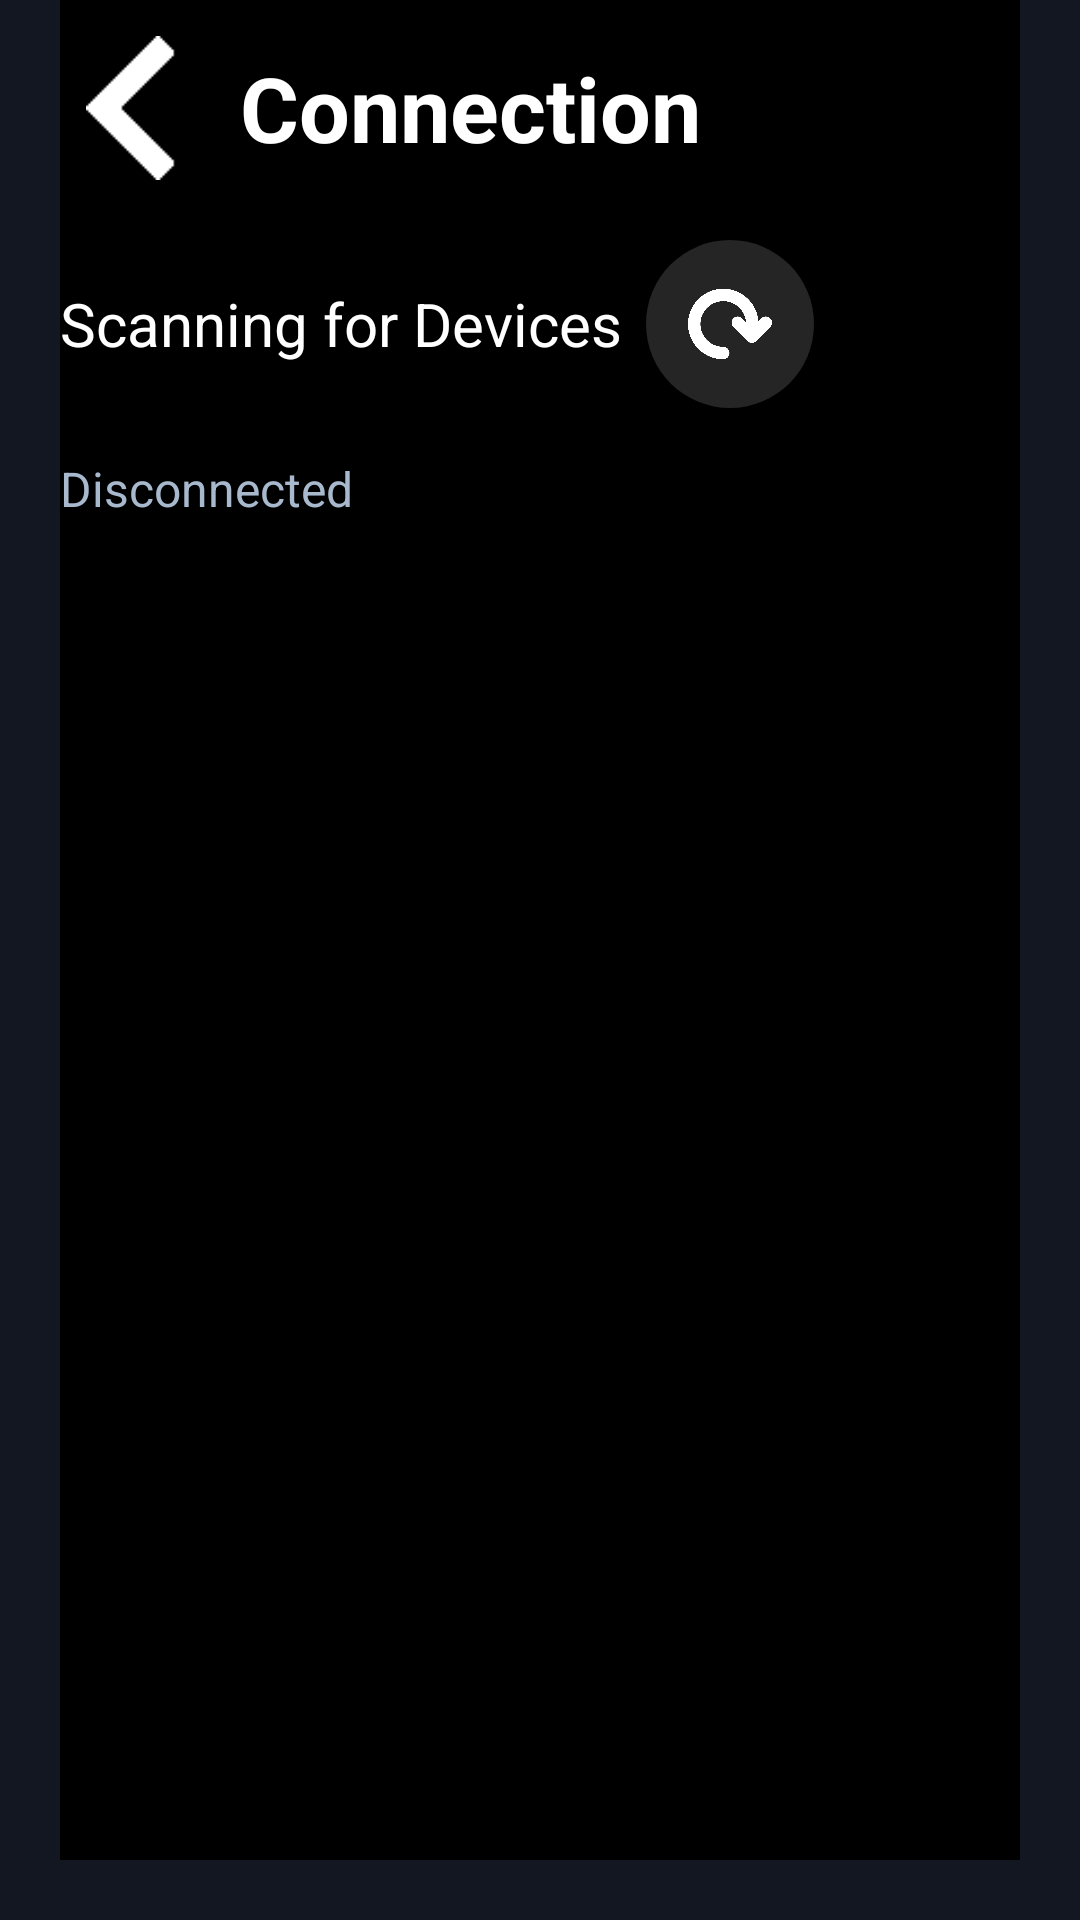

Icons on this 1080w x 1920h Android screen, each with the point to tap as (x=x, y=y):
Back to Settings: (x=130, y=108)
Rescan for devices: (x=730, y=324)
